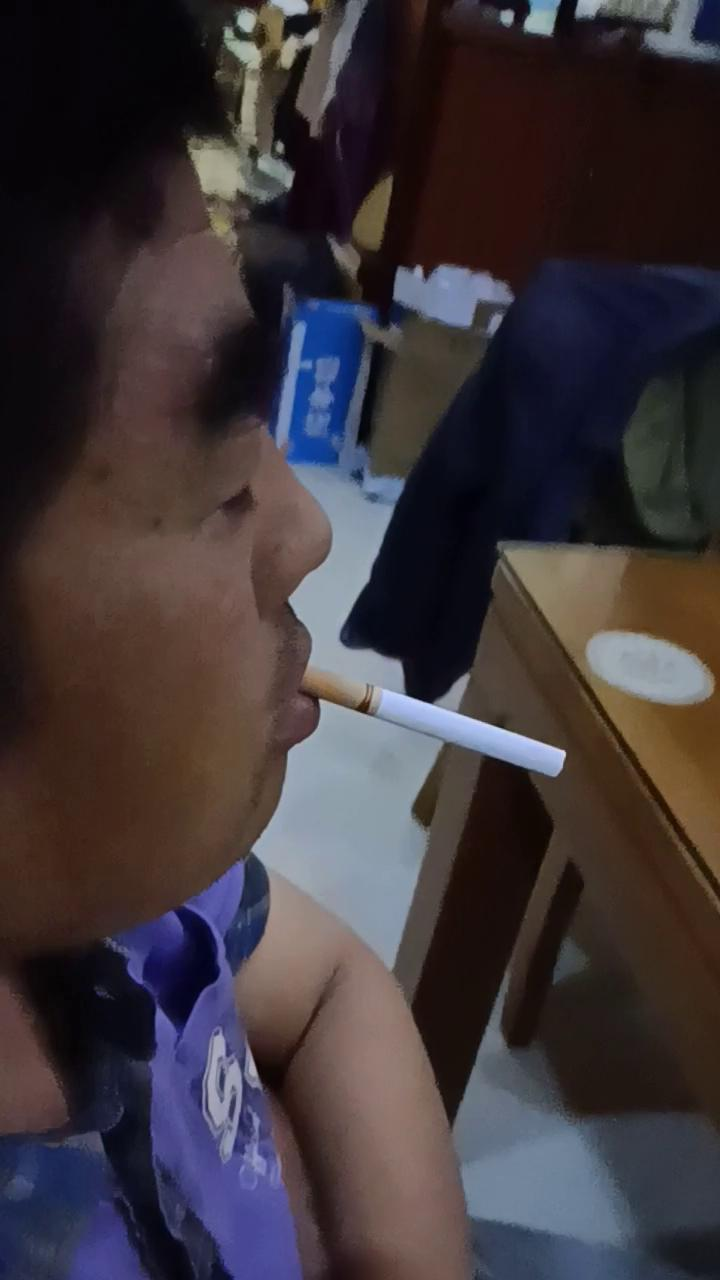smoke: (298, 666, 573, 780)
